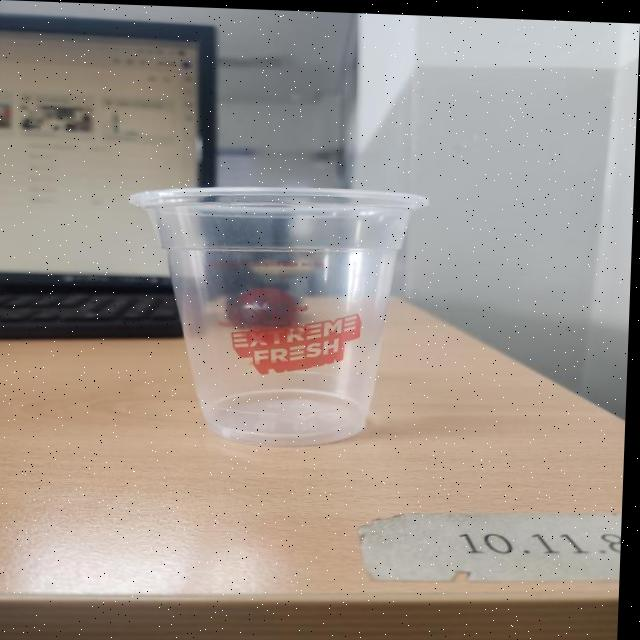cup: (132, 185, 428, 442)
